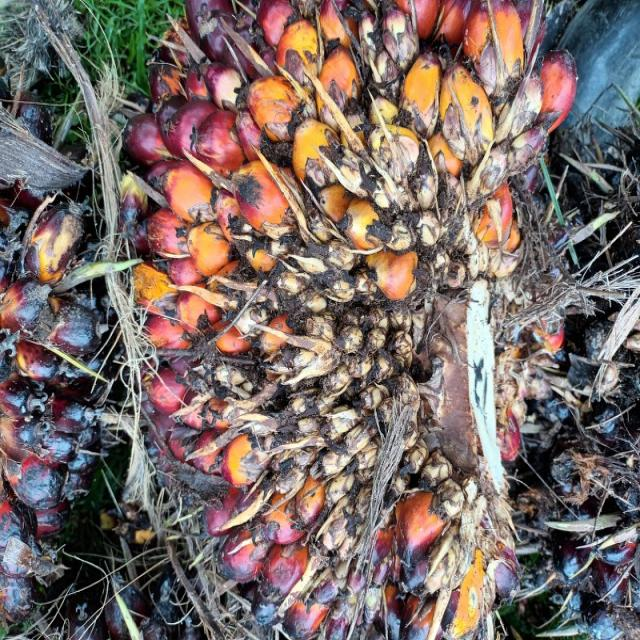fraksi 1: (0, 15, 480, 640)
